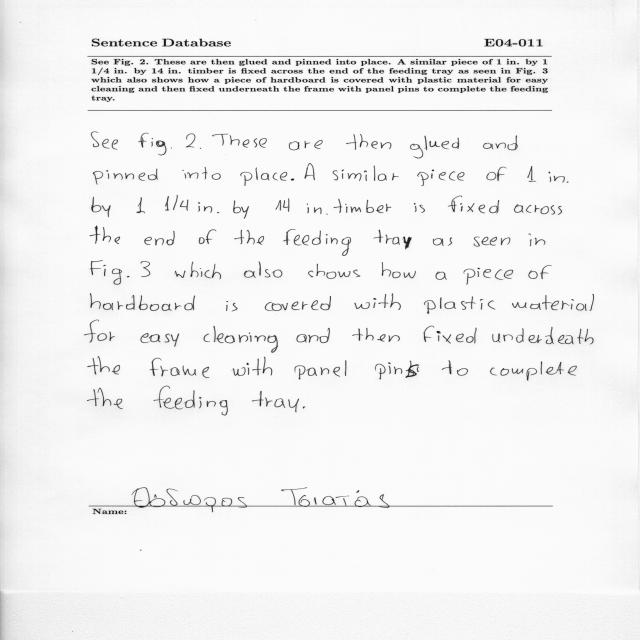word: (153, 386, 228, 415), (203, 326, 278, 353), (91, 293, 196, 311), (283, 229, 351, 256), (493, 327, 594, 344), (490, 362, 577, 381), (512, 294, 594, 311), (424, 296, 495, 314), (150, 358, 209, 378), (411, 136, 460, 159), (93, 169, 158, 185), (333, 166, 399, 181), (265, 296, 331, 311), (295, 361, 347, 380), (252, 391, 299, 412), (424, 326, 477, 344), (91, 261, 130, 285), (448, 196, 499, 214), (463, 268, 513, 285), (241, 168, 288, 186), (375, 361, 419, 380), (334, 199, 392, 213), (418, 169, 465, 186), (175, 262, 222, 279), (87, 387, 123, 409), (309, 264, 361, 279), (212, 134, 267, 148), (233, 357, 273, 376), (354, 294, 401, 310), (138, 133, 172, 155), (374, 230, 412, 249), (346, 134, 391, 150), (84, 320, 115, 342), (352, 328, 400, 342), (244, 261, 282, 278), (88, 357, 120, 375), (382, 262, 416, 278), (90, 226, 120, 244), (141, 333, 179, 347), (514, 204, 562, 215), (483, 136, 518, 151), (296, 328, 330, 343), (182, 167, 221, 180), (91, 132, 118, 149), (234, 230, 264, 245), (144, 231, 175, 245), (442, 360, 468, 376), (92, 197, 111, 217), (474, 237, 511, 247), (165, 195, 188, 211), (289, 140, 323, 150), (529, 265, 552, 279), (486, 167, 507, 181), (233, 201, 249, 219), (199, 230, 217, 244), (198, 202, 219, 213), (307, 204, 328, 215), (529, 234, 546, 247), (549, 172, 569, 183), (276, 198, 290, 212), (304, 163, 315, 180), (433, 237, 452, 246), (528, 166, 537, 182), (136, 198, 145, 214), (141, 261, 150, 277), (186, 134, 196, 148), (226, 301, 238, 311), (414, 203, 425, 213), (435, 272, 447, 280), (291, 179, 294, 181), (303, 407, 306, 409), (200, 148, 201, 149)
